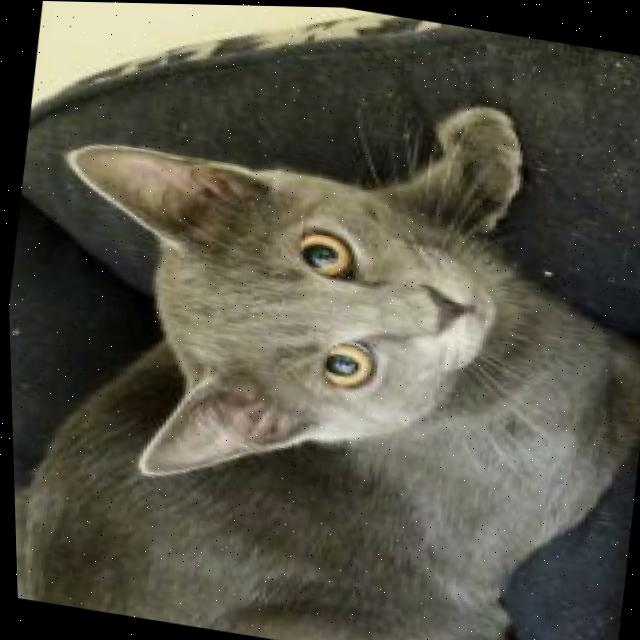Russian Blue: (1, 28, 640, 640)
